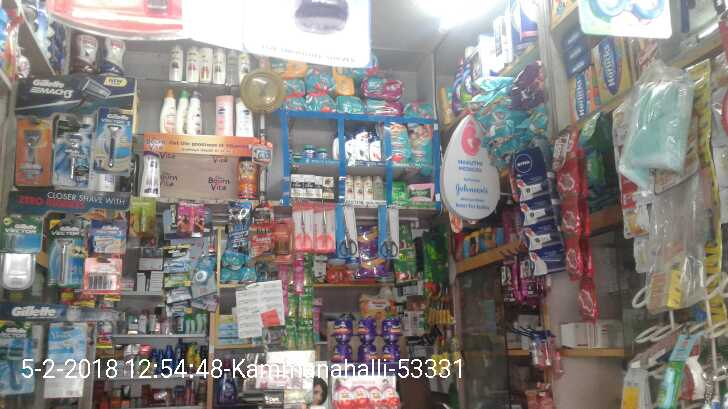beauty: (14, 117, 50, 187), (56, 120, 90, 190), (48, 220, 81, 287), (98, 108, 128, 173), (2, 217, 42, 254), (83, 257, 122, 291), (94, 221, 125, 253), (409, 181, 435, 201), (291, 172, 304, 196), (323, 175, 335, 200), (373, 176, 384, 199), (345, 174, 354, 199), (355, 176, 364, 201), (304, 174, 314, 196), (364, 176, 372, 200), (315, 176, 322, 197)
pharmacy: (407, 120, 434, 167), (381, 121, 410, 163), (360, 75, 405, 102), (306, 69, 337, 94), (339, 94, 366, 117), (306, 94, 336, 113)
